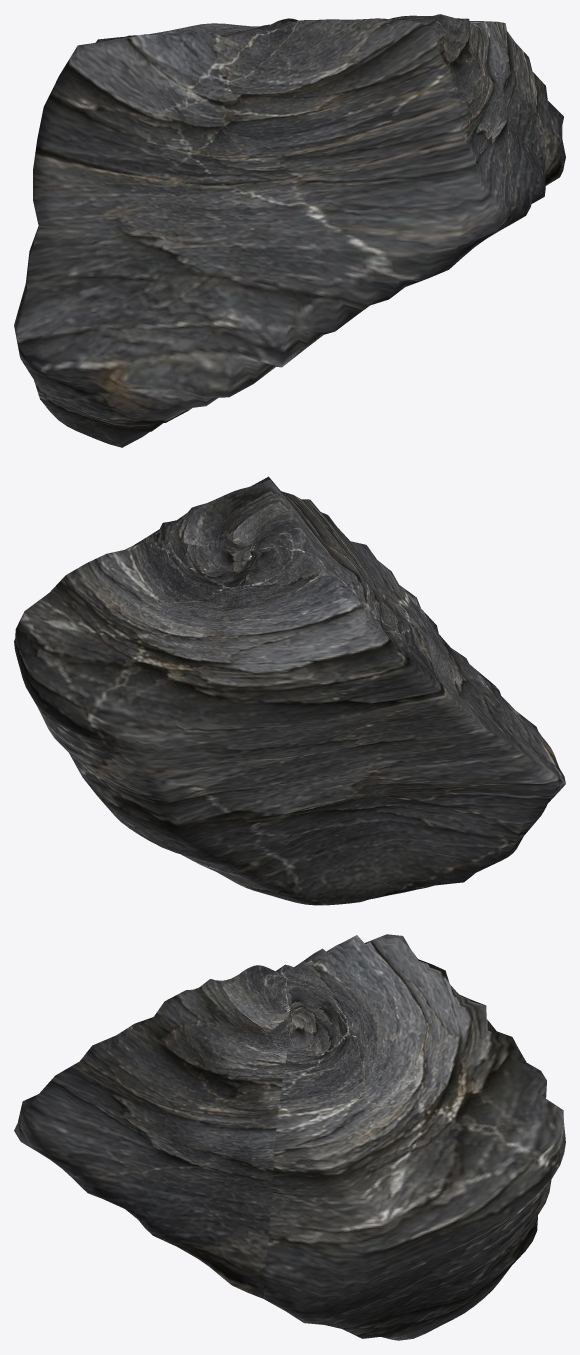
The model's file is veined_flint.glb.
3 views of the same model, one above another, from view 1: azimuth 30°, elevation 25°; view 2: azimuth 150°, elevation 25°; view 3: azimuth 270°, elevation 25° (orthographic). The views are drawn at different scales.
Visible parts, largest first — view 1: veined_flint; view 2: veined_flint; view 3: veined_flint.
Part boxes in pixels (x1,y1,x2,y2): veined_flint: (14, 14, 565, 447); veined_flint: (14, 476, 565, 905); veined_flint: (14, 934, 565, 1340).
Bounding box in the file's own units: 0.9669 × 0.6026 × 0.7974.
Materials: 1 (1 with a texture image).
